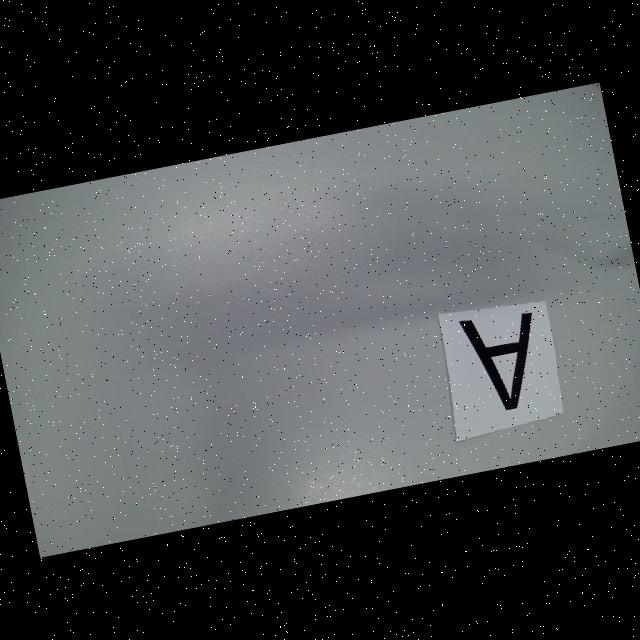FAKE: (460, 306, 550, 416)
